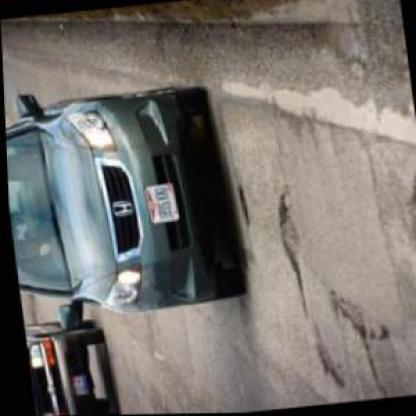pothole: (398, 166, 415, 347), (269, 189, 305, 269)
